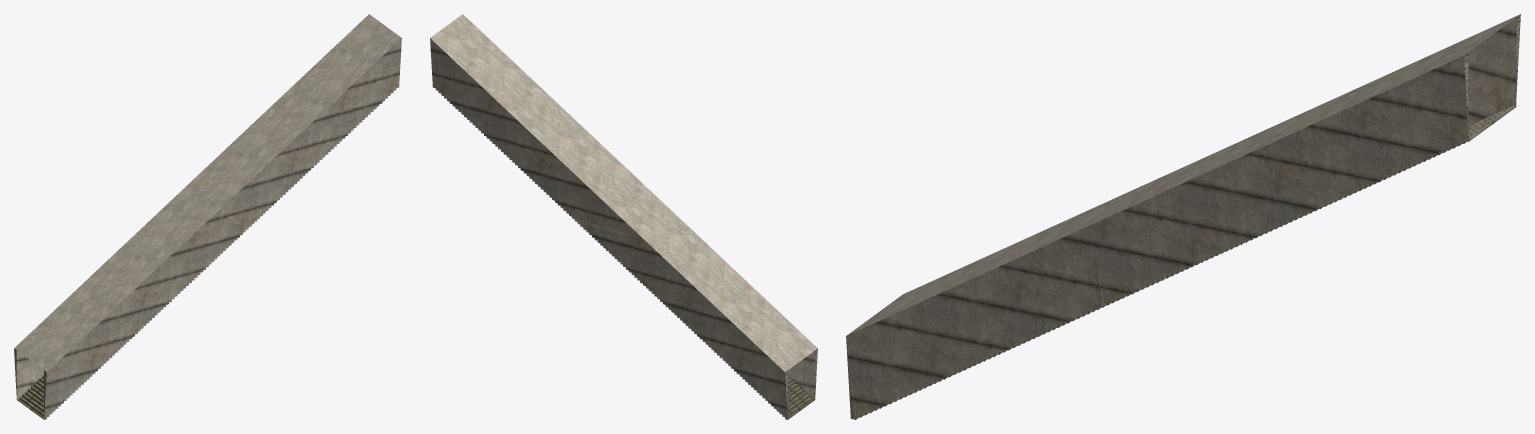
Rendered from thm_yavn_great_massassi_temple_r7_stairs2_mesh_r7.fbx.
3 views of the same model, side by side, from view 1: azimuth 30°, elevation 25°; view 2: azimuth 150°, elevation 25°; view 3: azimuth 330°, elevation 25° (orthographic). The views are drawn at different scales.
Parts seen in each view (by area): view 1: mesh_node; view 2: mesh_node; view 3: mesh_node.
Boxes of the visible parts, bbox=[...] form: mesh_node: bbox=[14, 14, 401, 419]; mesh_node: bbox=[430, 14, 817, 419]; mesh_node: bbox=[846, 14, 1520, 419].
Size of the model in its own units: 37.5 by 30 by 6.
